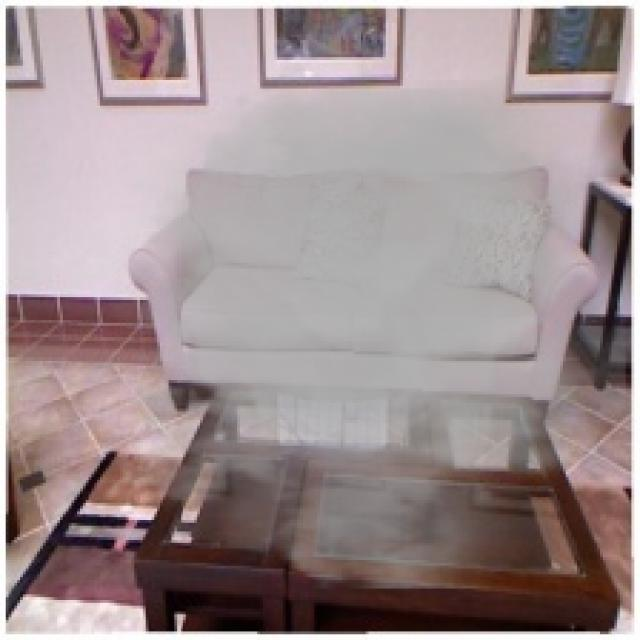Smoke: (65, 57, 626, 589)
